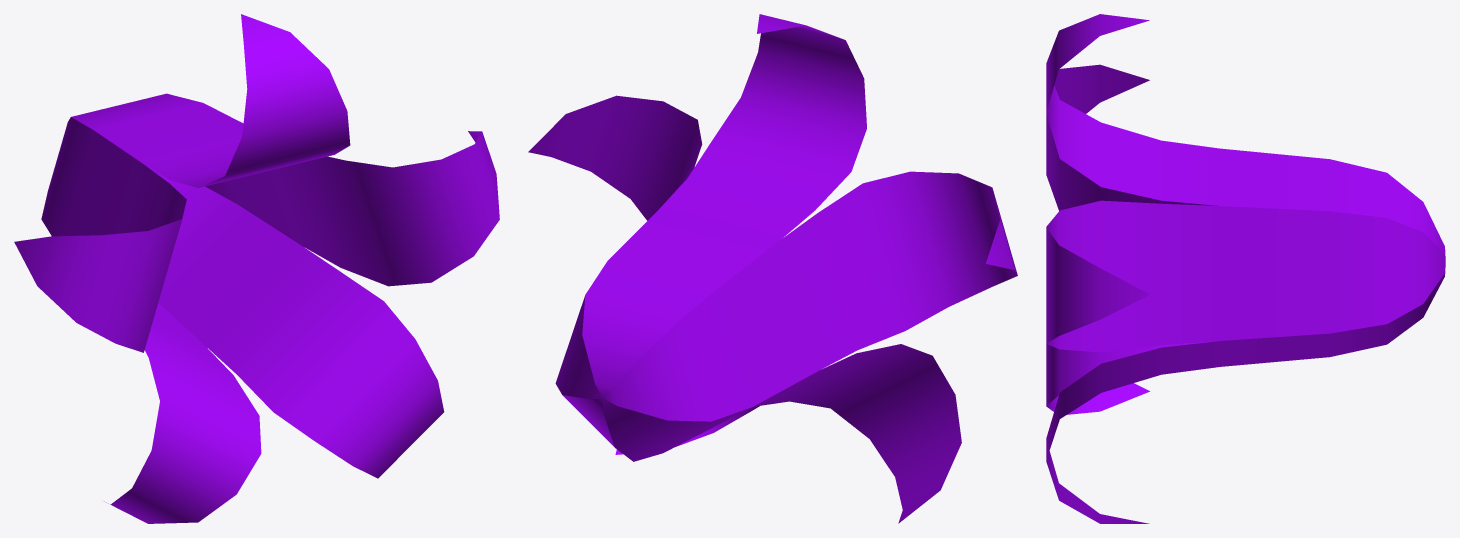
The model's file is flowerP.fbx.
The picture shows the model from 3 angles, left to right: view 1: azimuth 30°, elevation 25°; view 2: azimuth 150°, elevation 25°; view 3: azimuth 270°, elevation 25°; orthographic projection. The views are drawn at different scales.
Parts seen in each view (by area): view 1: flowerP; view 2: flowerP; view 3: flowerP.
Boxes of the visible parts, left/top/right/bottom form: flowerP: left=14, top=14, right=499, bottom=523; flowerP: left=528, top=14, right=1017, bottom=523; flowerP: left=1046, top=14, right=1445, bottom=523.
Bounding box in the file's own units: 24.56 × 23.61 × 19.11.
